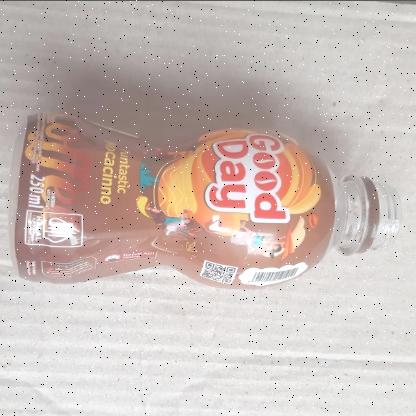Plastic Bottle: (11, 112, 403, 288)
